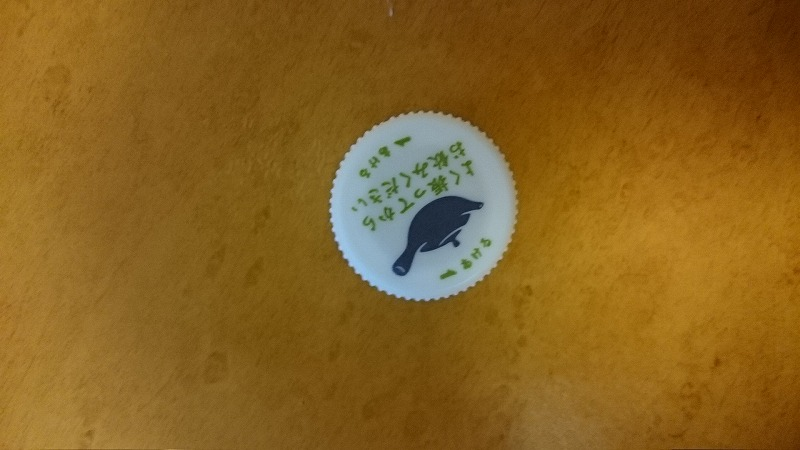A: (323, 103, 522, 303)
